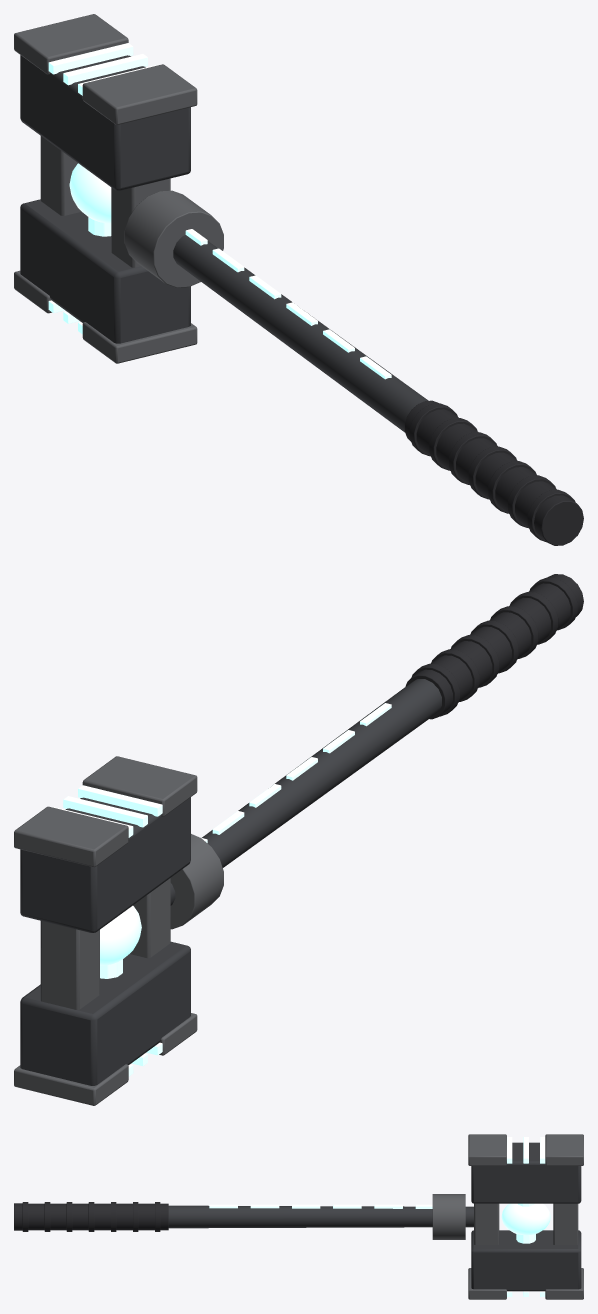
The model's file is mazo_plasma.glb.
The picture shows the model from 3 angles, top to bottom: view 1: azimuth 30°, elevation 25°; view 2: azimuth 150°, elevation 25°; view 3: azimuth 270°, elevation 25°; orthographic projection. The views are drawn at different scales.
Parts seen in each view (by area): view 1: mazo_plasma; view 2: mazo_plasma; view 3: mazo_plasma.
Part boxes in pixels (<box>): mazo_plasma: <box>14,14,583,545</box>; mazo_plasma: <box>14,574,583,1105</box>; mazo_plasma: <box>14,1134,583,1299</box>.
Bounding box in the file's own units: 0.096 × 0.288 × 1.04.
